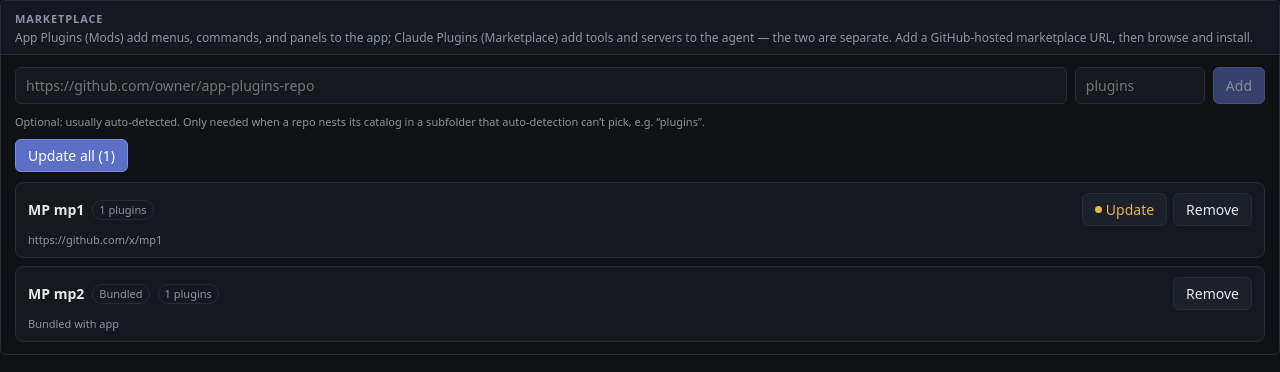
AppPluginMarketplaceSection Update all › reports permission-required installs in the summary
What coordinates should you click on to do the following:
click the button "Update all (1)"
I would click on:
 (72, 156)
Its box is [15,139,128,172].
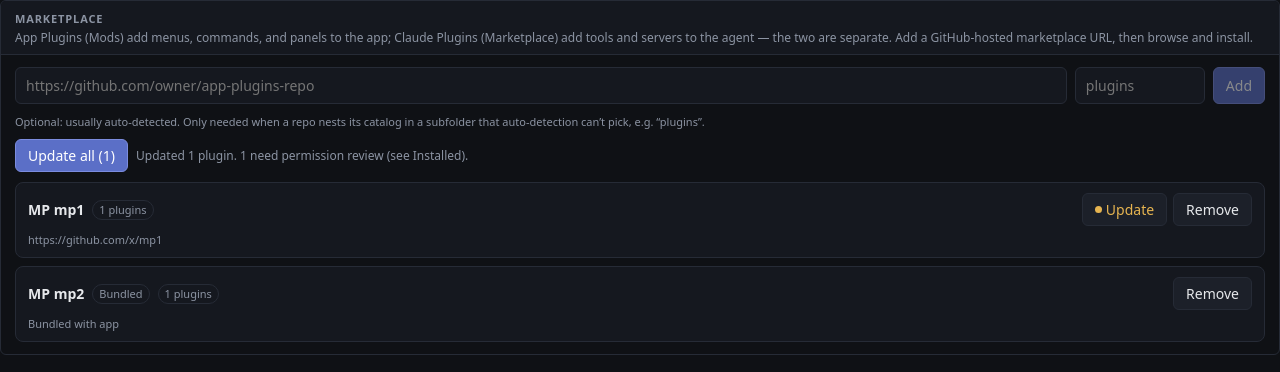
Now the text "Updated 1 plugin. 1 need permission review (see Installed)." is shown, box [136,147,468,164]
